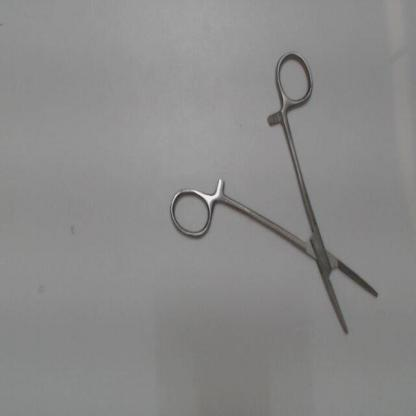Mayo Needle Holder: (164, 50, 392, 350)
